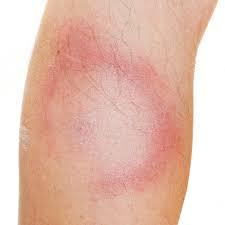Tick: (31, 29, 160, 198)
